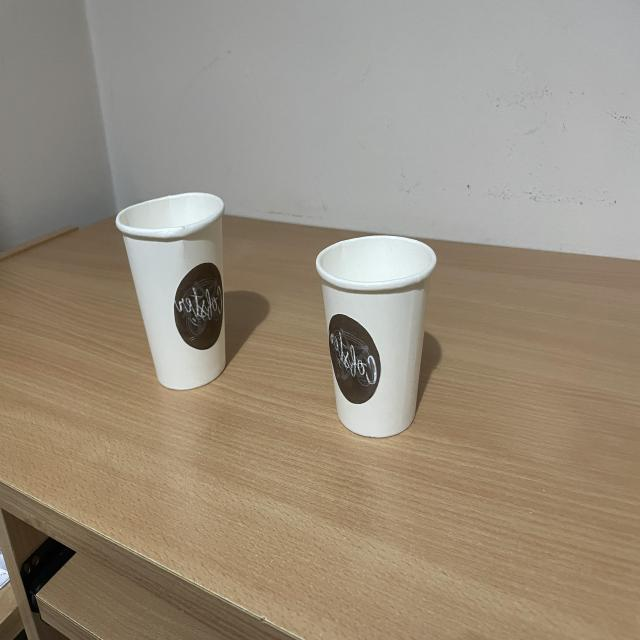big: (112, 157, 237, 402)
medium: (305, 204, 459, 450)
